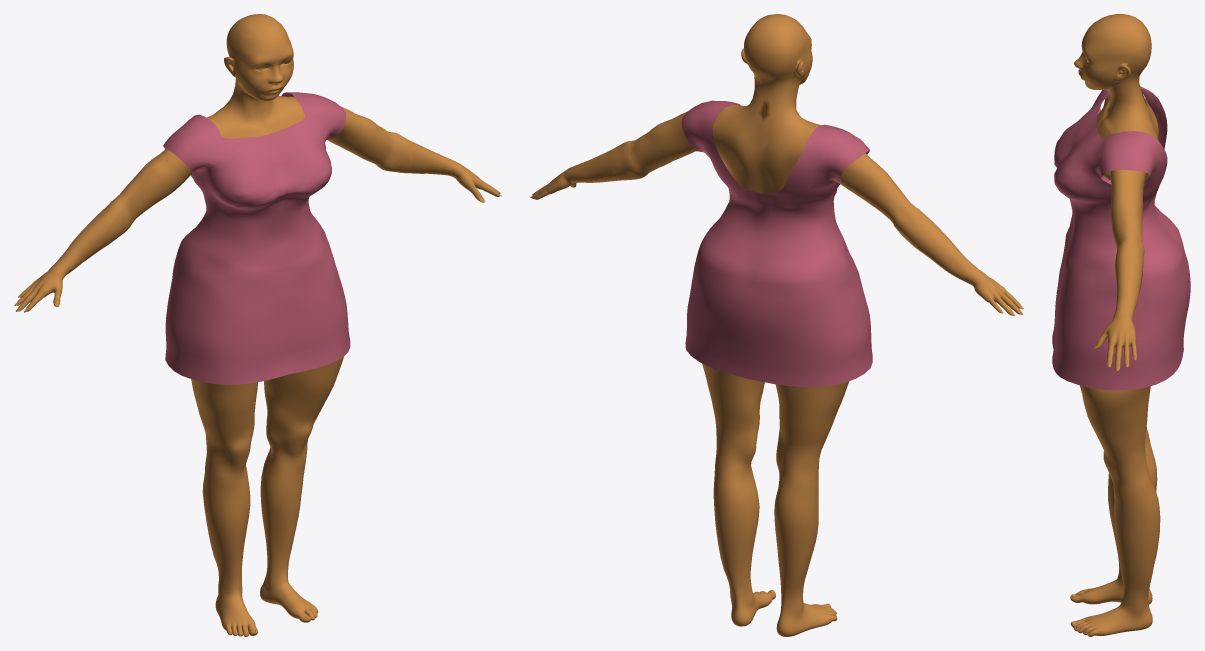
The model's file is dress7.glb.
3 renders of one model, left to right at view 1: azimuth 30°, elevation 25°; view 2: azimuth 150°, elevation 25°; view 3: azimuth 270°, elevation 25°, orthographic.
Visible parts, largest first — view 1: Jennifer.F_Dress_01, Body; view 2: Body, Jennifer.F_Dress_01; view 3: Jennifer.F_Dress_01, Body.
Part boxes in pixels (x1,y1,x2,y2): Jennifer.F_Dress_01: [163, 92, 350, 384]; Body: [17, 14, 500, 636]; Body: [532, 14, 1020, 636]; Jennifer.F_Dress_01: [681, 100, 872, 386]; Jennifer.F_Dress_01: [1052, 86, 1190, 390]; Body: [1070, 14, 1160, 636].
Bounding box in the file's own units: 1.58 × 1.85 × 0.3879.
